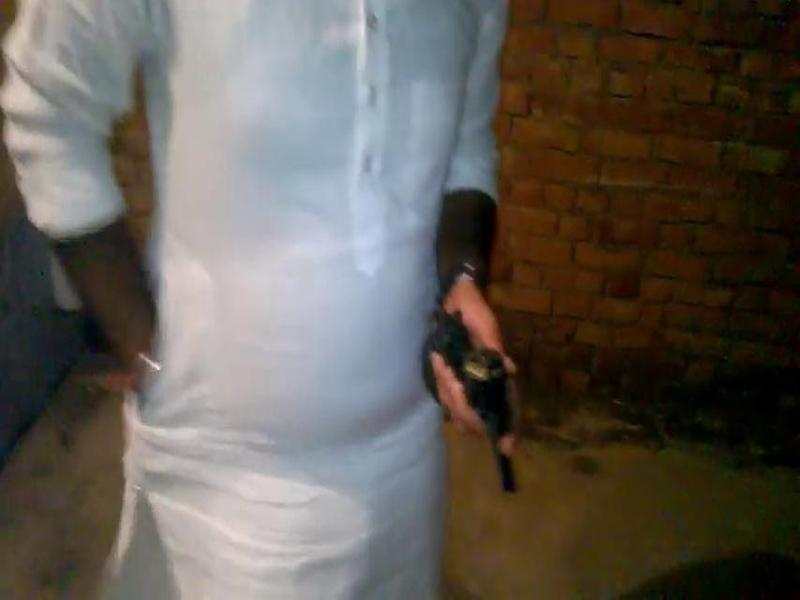Revolver: (386, 284, 556, 509)
